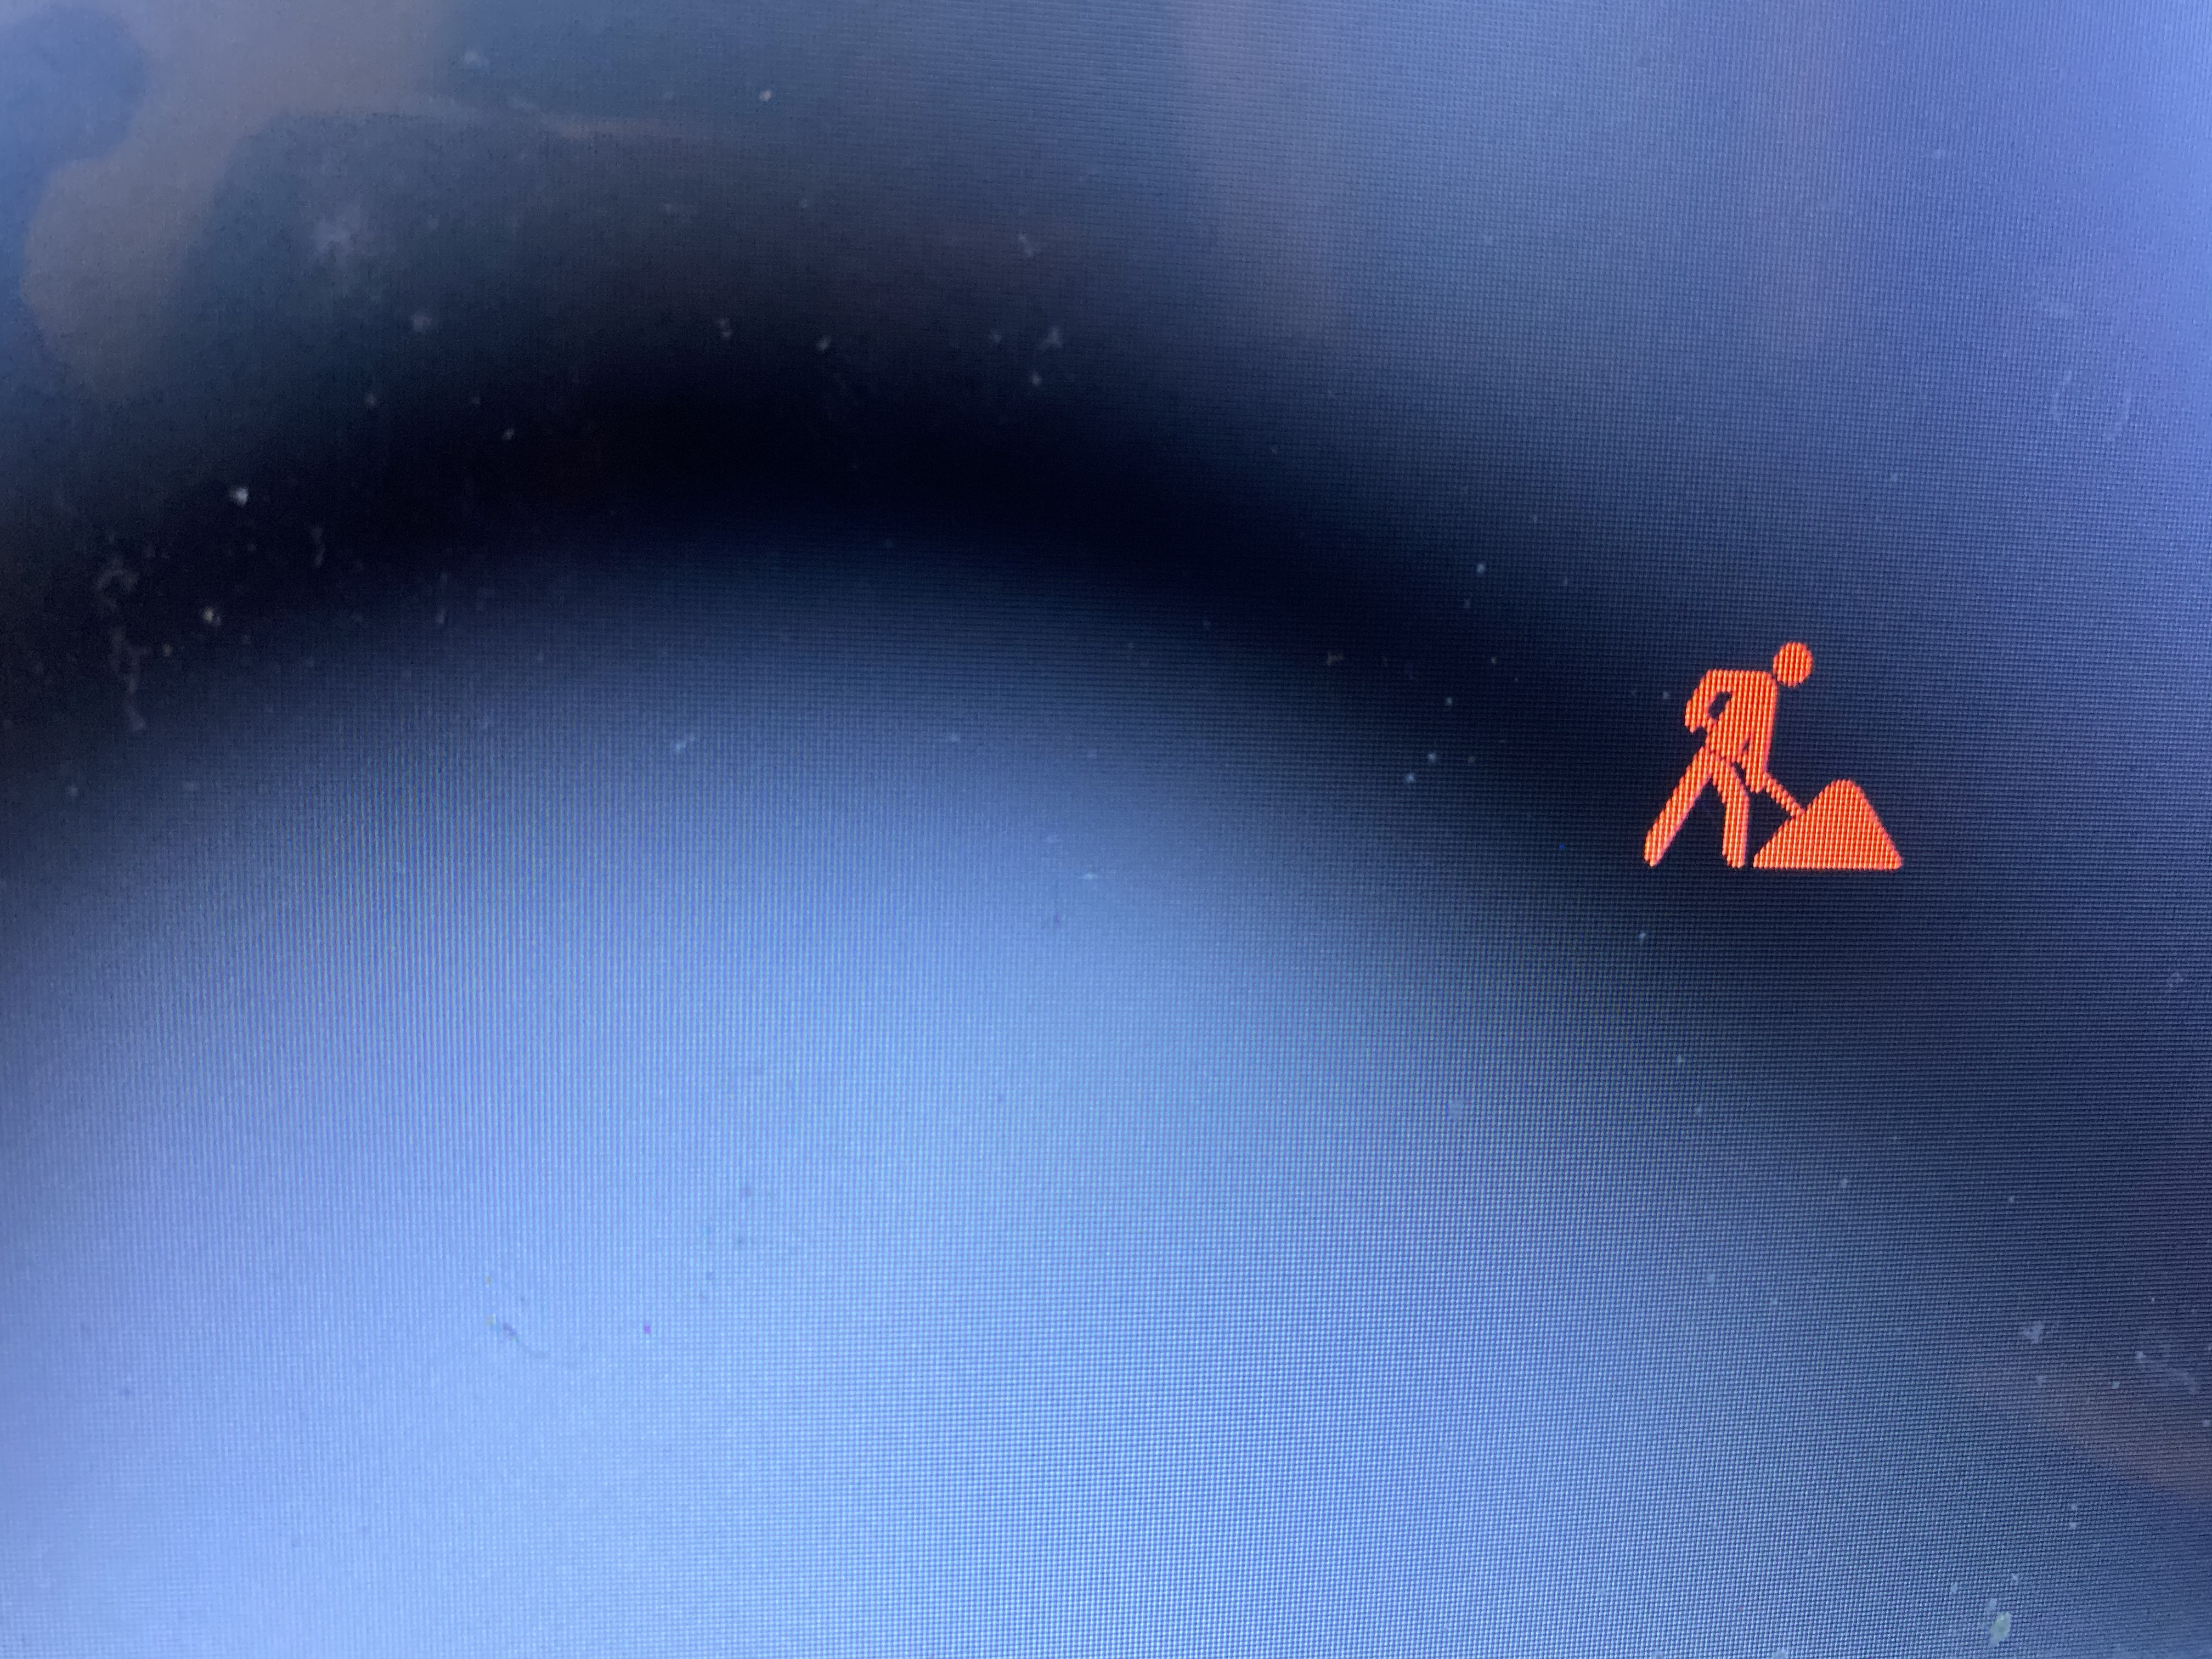CONSTRUCTION: (1632, 627, 1940, 931)
